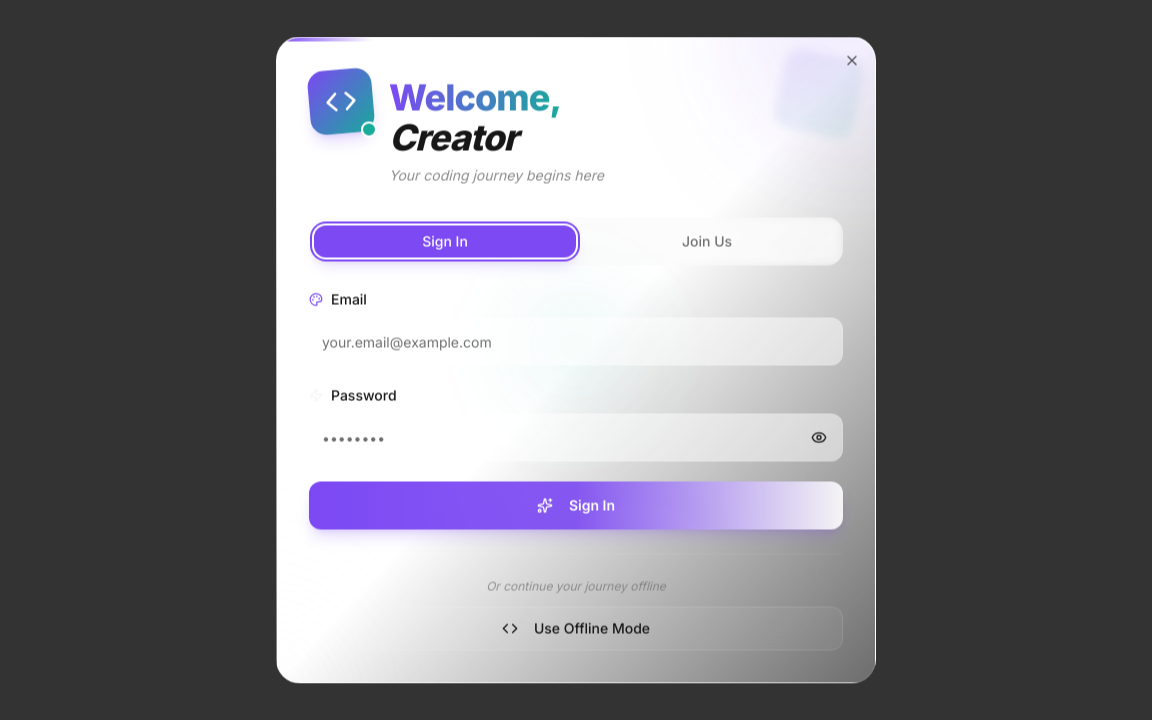
it: AuthModal › should switch to register form when register tab is clicked
This screenshot has width=1152, height=720.
Click the tab "Join Us".
click(707, 242)  # box top-left (576, 226), bottom-right (838, 258)
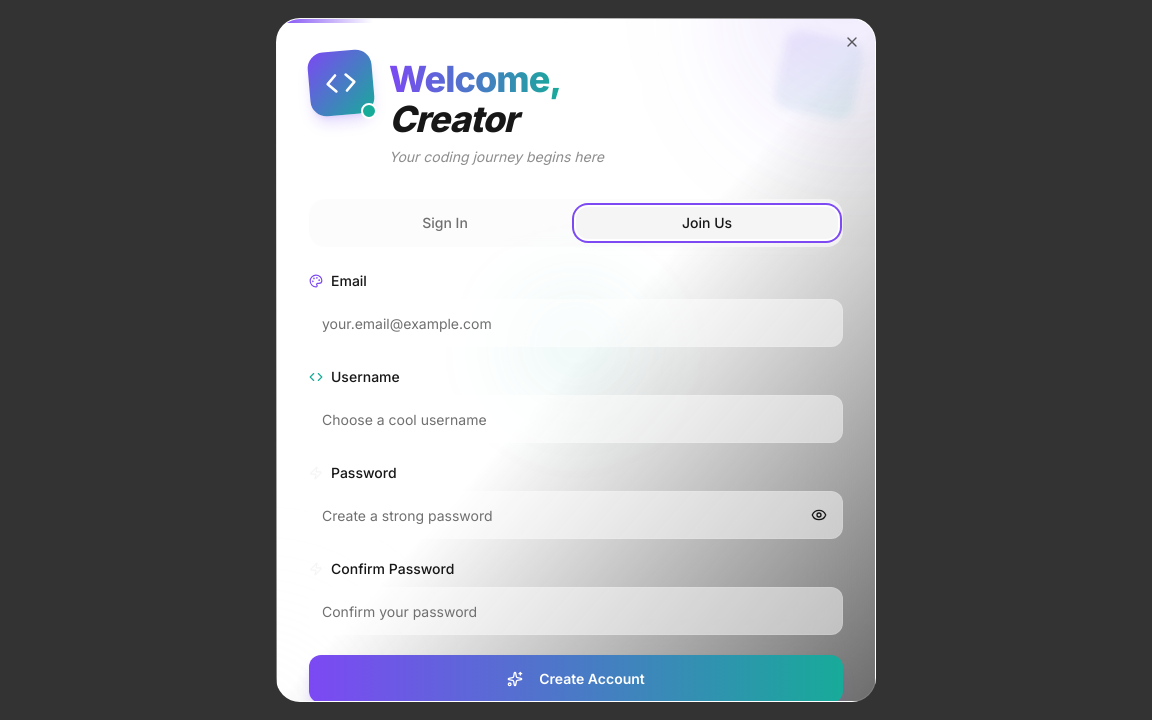
expect the field labelled "Username" is shown: met, box top-left (309, 395), bottom-right (843, 443)
expect the password field labelled "Confirm Password" is shown: met, box top-left (309, 587), bottom-right (843, 635)
expect the button "Create Account" is shown: met, box top-left (309, 655), bottom-right (843, 702)
